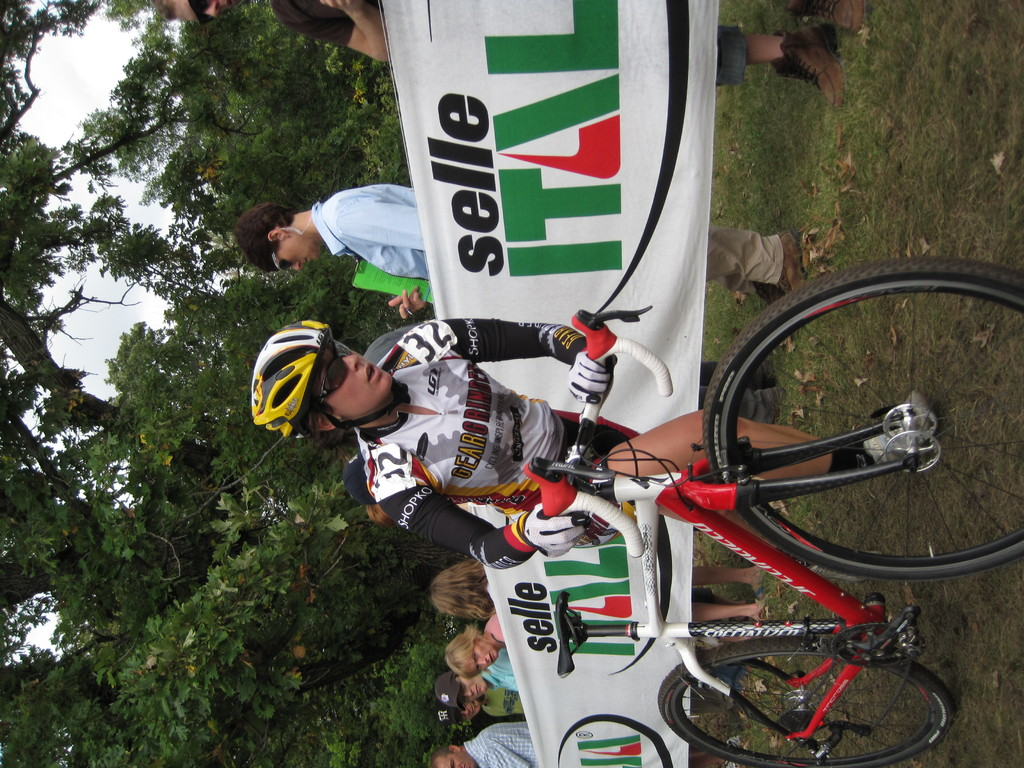Person: (343, 450, 768, 768)
